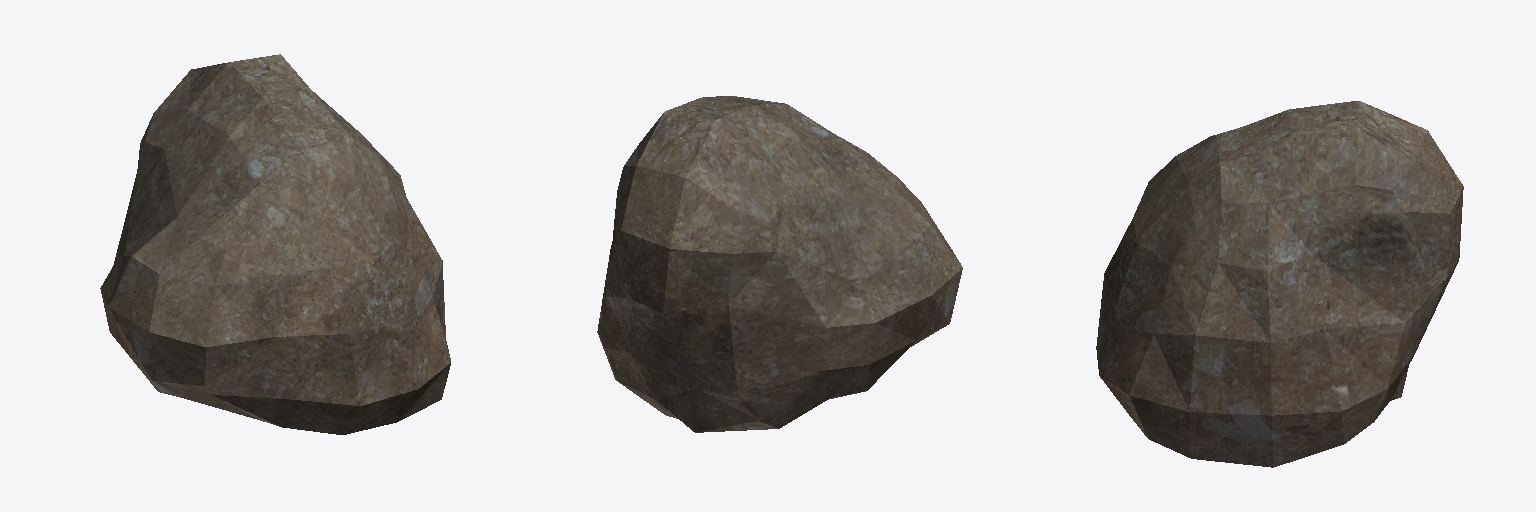
3 views of the same model, side by side, from view 1: azimuth 30°, elevation 25°; view 2: azimuth 150°, elevation 25°; view 3: azimuth 270°, elevation 25° (orthographic).
Visible parts, largest first — view 1: Stone_3_Stone.002; view 2: Stone_3_Stone.002; view 3: Stone_3_Stone.002.
Part boxes in pixels (bbox=[...]): Stone_3_Stone.002: bbox=[100, 54, 450, 434]; Stone_3_Stone.002: bbox=[597, 96, 962, 432]; Stone_3_Stone.002: bbox=[1096, 101, 1463, 467].
Bounding box in the file's own units: 0.2727 × 0.271 × 0.2788.
Materials: 1 (1 with a texture image).